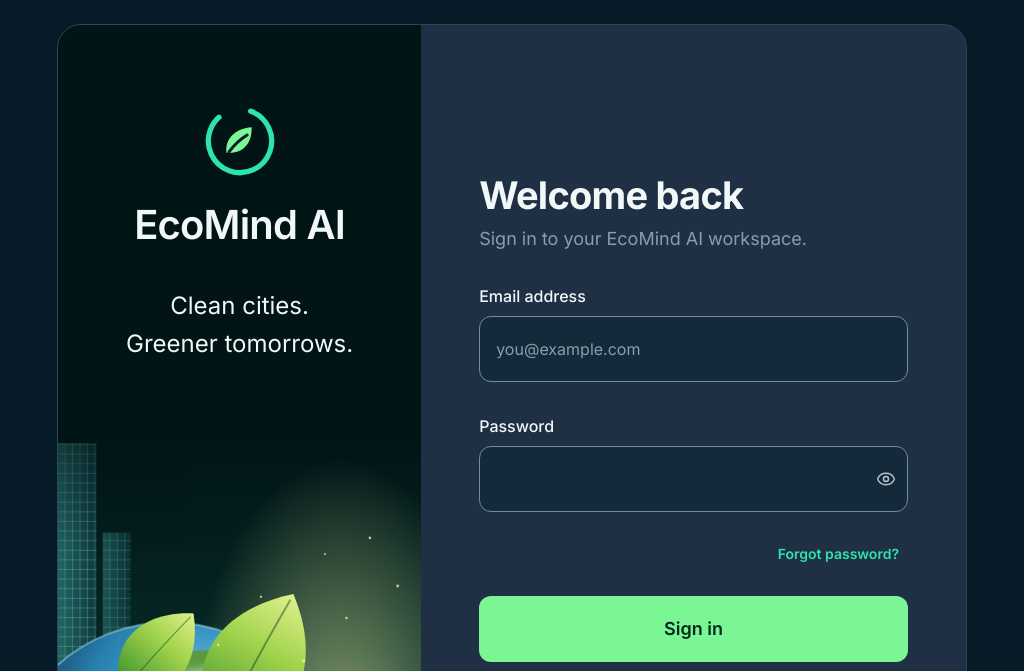
Test: sign-in › returns a signed-in user to the page they originally asked for
The width and height of the screenshot is (1024, 671).
Type "asha@example.org" into the field labelled "Email address" at (694, 349), box x1=479 y1=316 x2=908 y2=382
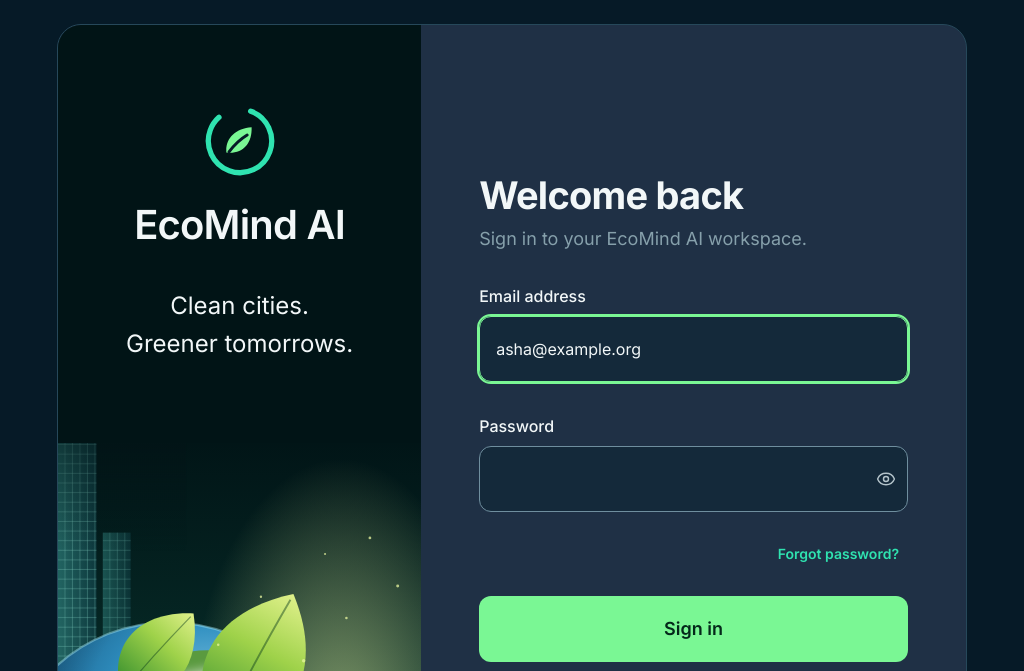
Type "a long passphrase 1" into the password field labelled "Password" at (694, 479), box x1=479 y1=446 x2=908 y2=512
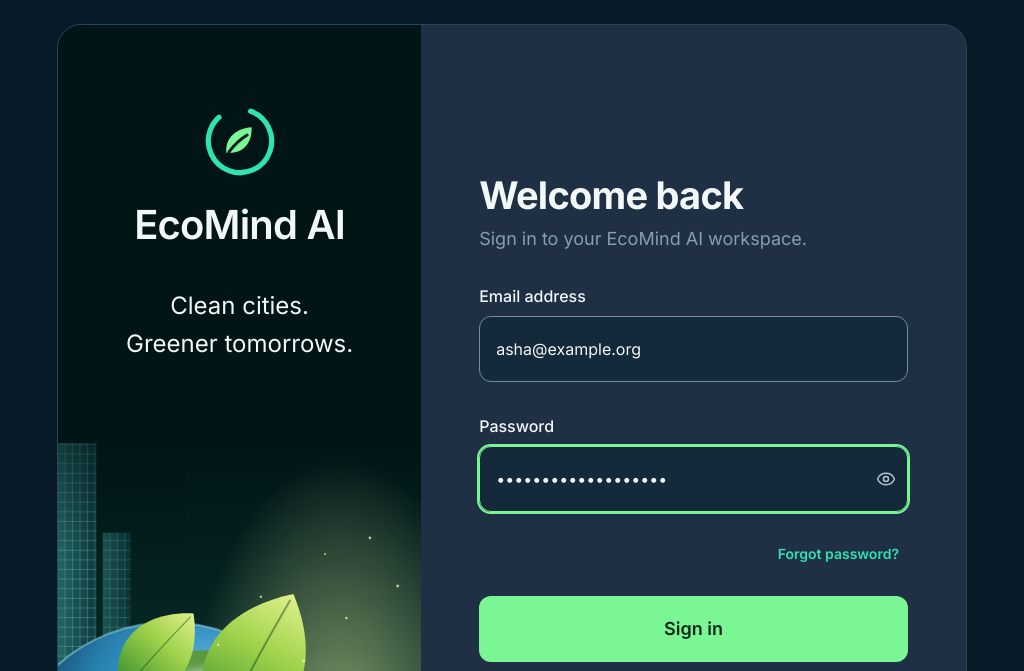
Click the button "Sign in" at (694, 629), box x1=479 y1=596 x2=908 y2=662
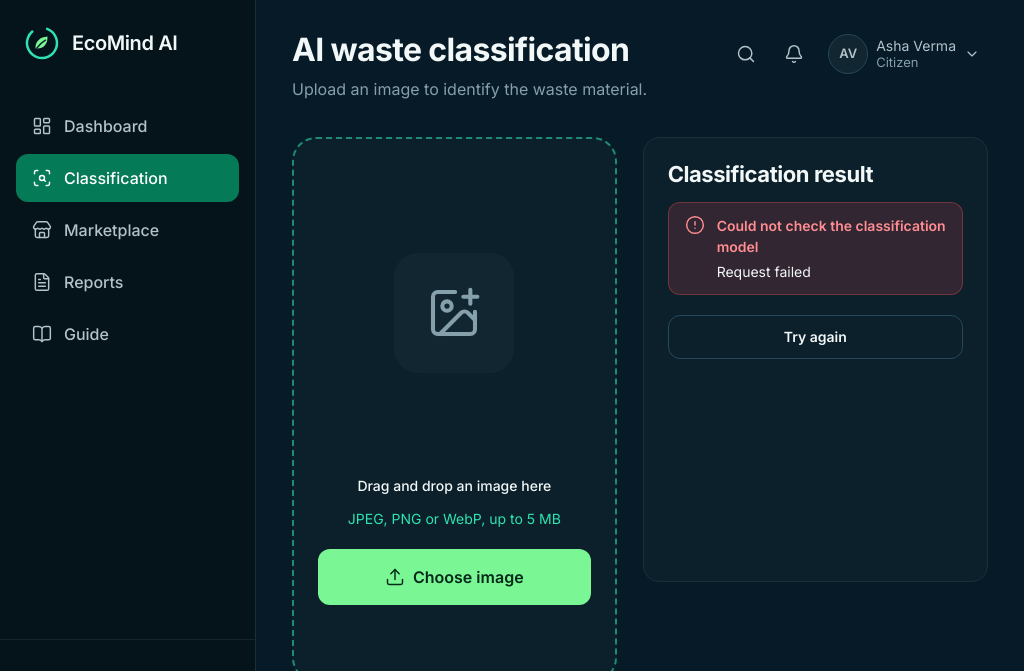
expect the heading "AI waste classification" is shown: met, box x1=292 y1=32 x2=647 y2=67
